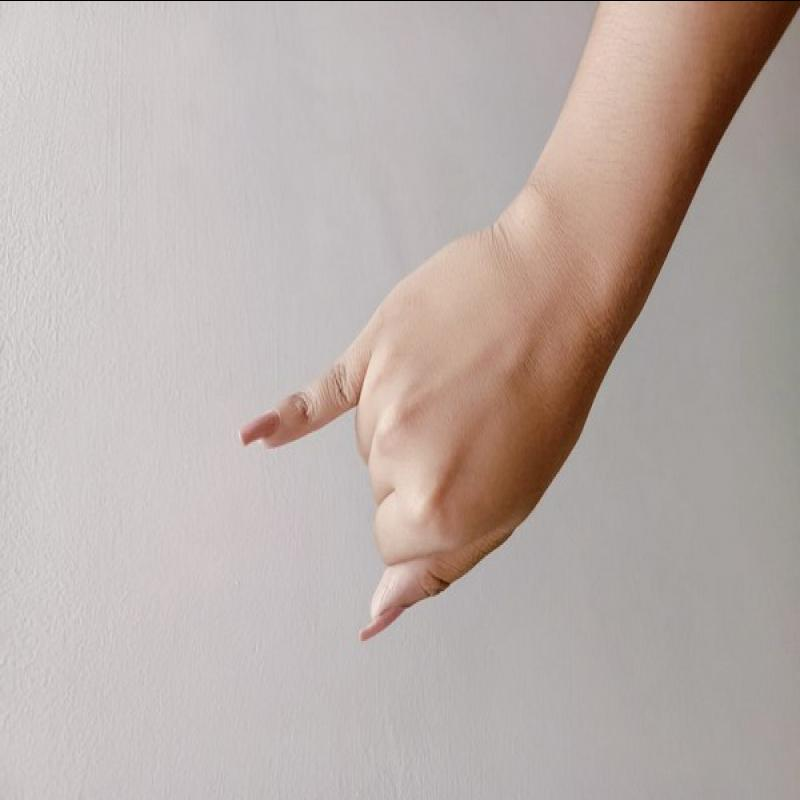Kartharee Mukham: (213, 205, 635, 650)
